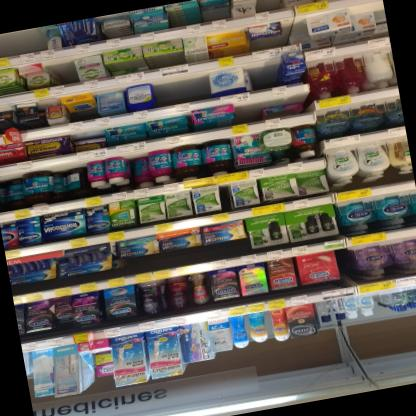empty_space: (157, 71, 213, 106), (0, 27, 40, 60), (248, 59, 280, 90), (235, 97, 268, 122), (282, 14, 306, 43), (270, 91, 308, 106), (253, 0, 289, 13), (58, 60, 78, 83), (99, 12, 128, 21)
